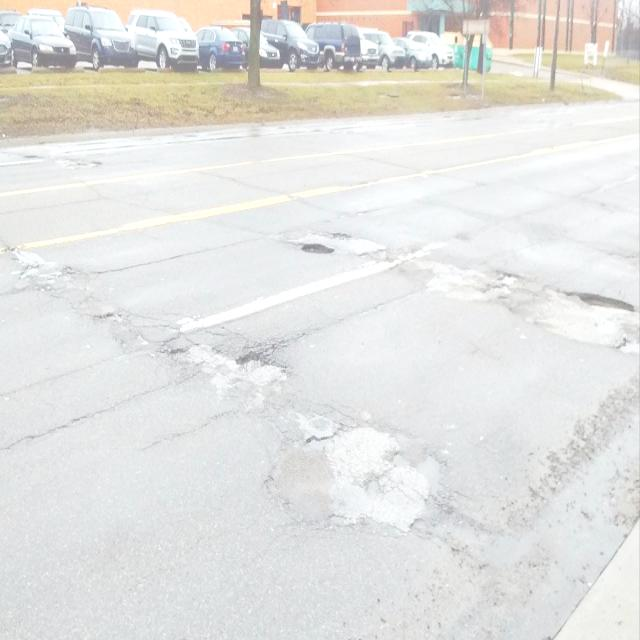Pothole: (267, 407, 640, 625), (467, 267, 640, 360), (146, 314, 288, 393)
